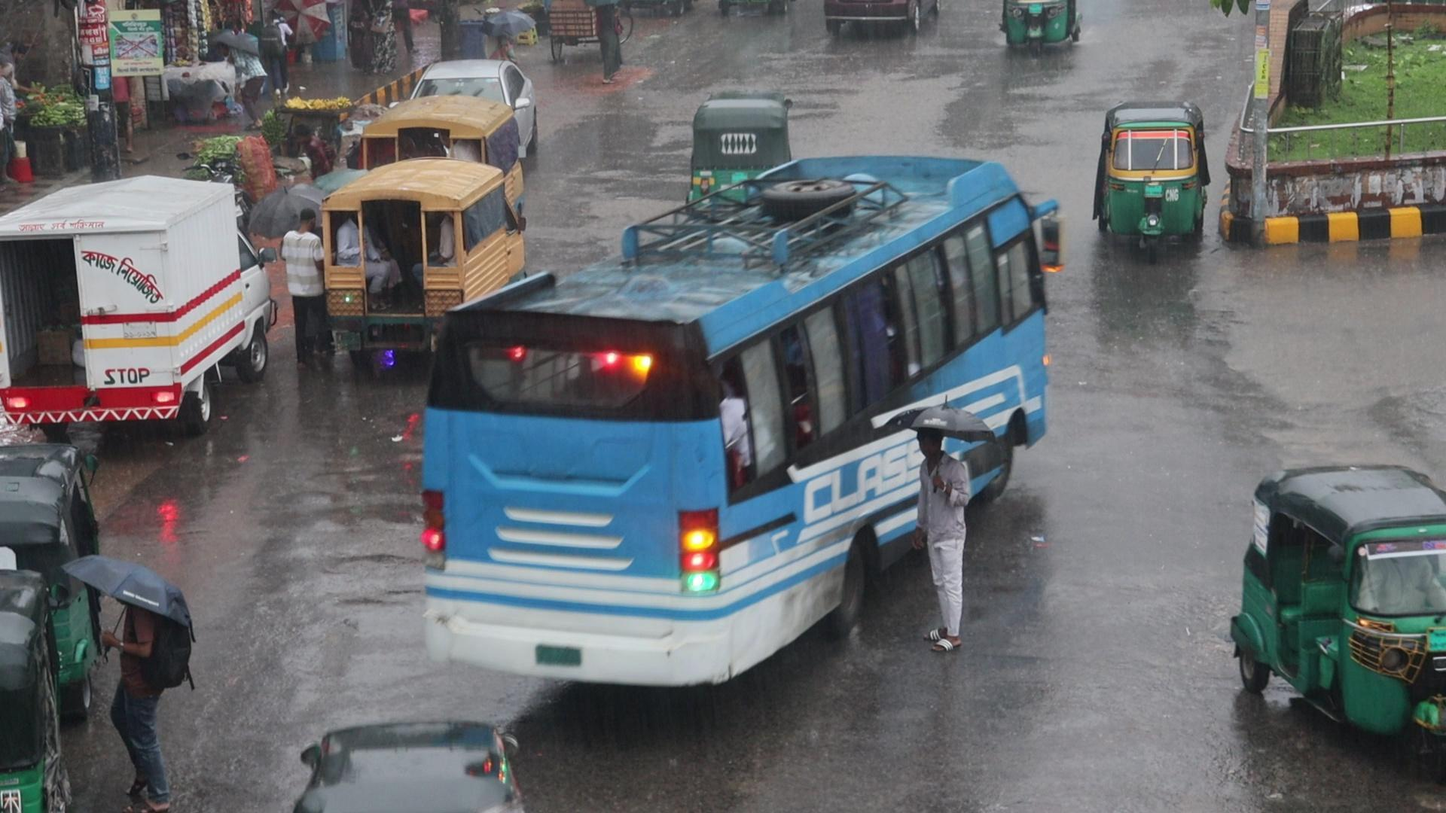Bus: (416, 150, 1051, 687)
Truck: (319, 158, 525, 313)
